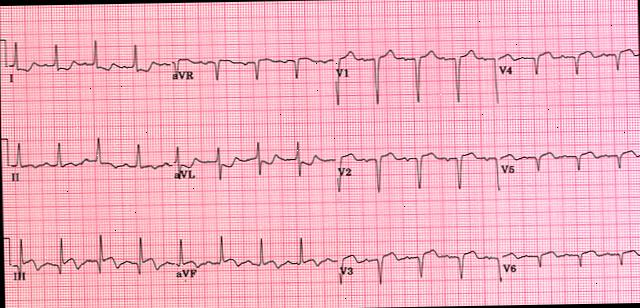Lead_I: (4, 34, 172, 91)
Lead_II: (4, 130, 174, 190)
Lead_III: (7, 230, 175, 287)
Lead_V1: (330, 37, 499, 108)
Lead_V2: (334, 138, 502, 197)
Lead_V3: (335, 238, 502, 292)
Lead_V4: (497, 37, 639, 84)
Lead_V5: (496, 135, 640, 183)
Lead_V6: (497, 235, 640, 286)
Lead_aVF: (172, 226, 339, 286), (172, 228, 338, 280)
Lead_aVL: (170, 136, 337, 187)
Lead_aVR: (168, 41, 335, 93)
